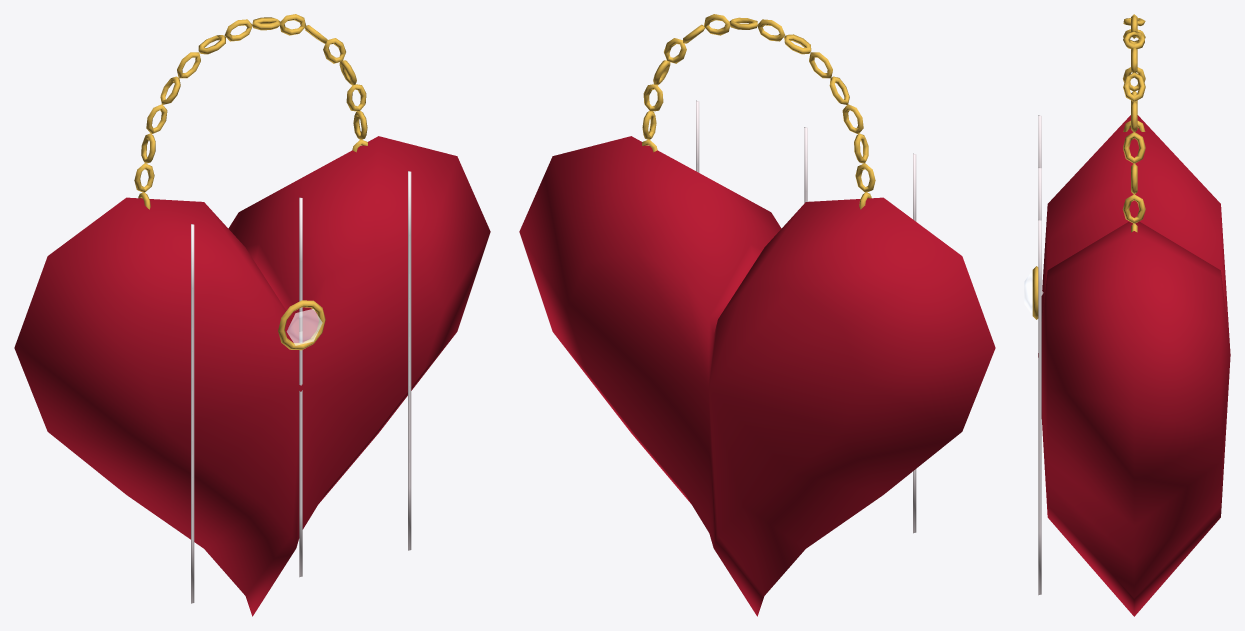
Rendered from heart_bag.glb.
3 renders of one model, left to right at view 1: azimuth 30°, elevation 25°; view 2: azimuth 150°, elevation 25°; view 3: azimuth 270°, elevation 25°, orthographic.
Visible parts, largest first — view 1: heart_bag; view 2: heart_bag; view 3: heart_bag.
Part boxes in pixels (x1,y1,x2,y2): heart_bag: [14, 14, 490, 616]; heart_bag: [519, 14, 995, 616]; heart_bag: [1024, 14, 1230, 616].
Size of the model in its own units: 0.1976 by 0.2381 by 0.075.
